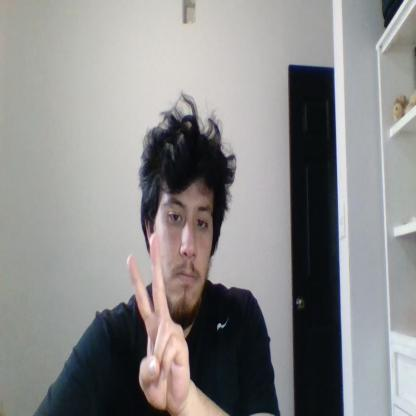V: (127, 234, 190, 411)
